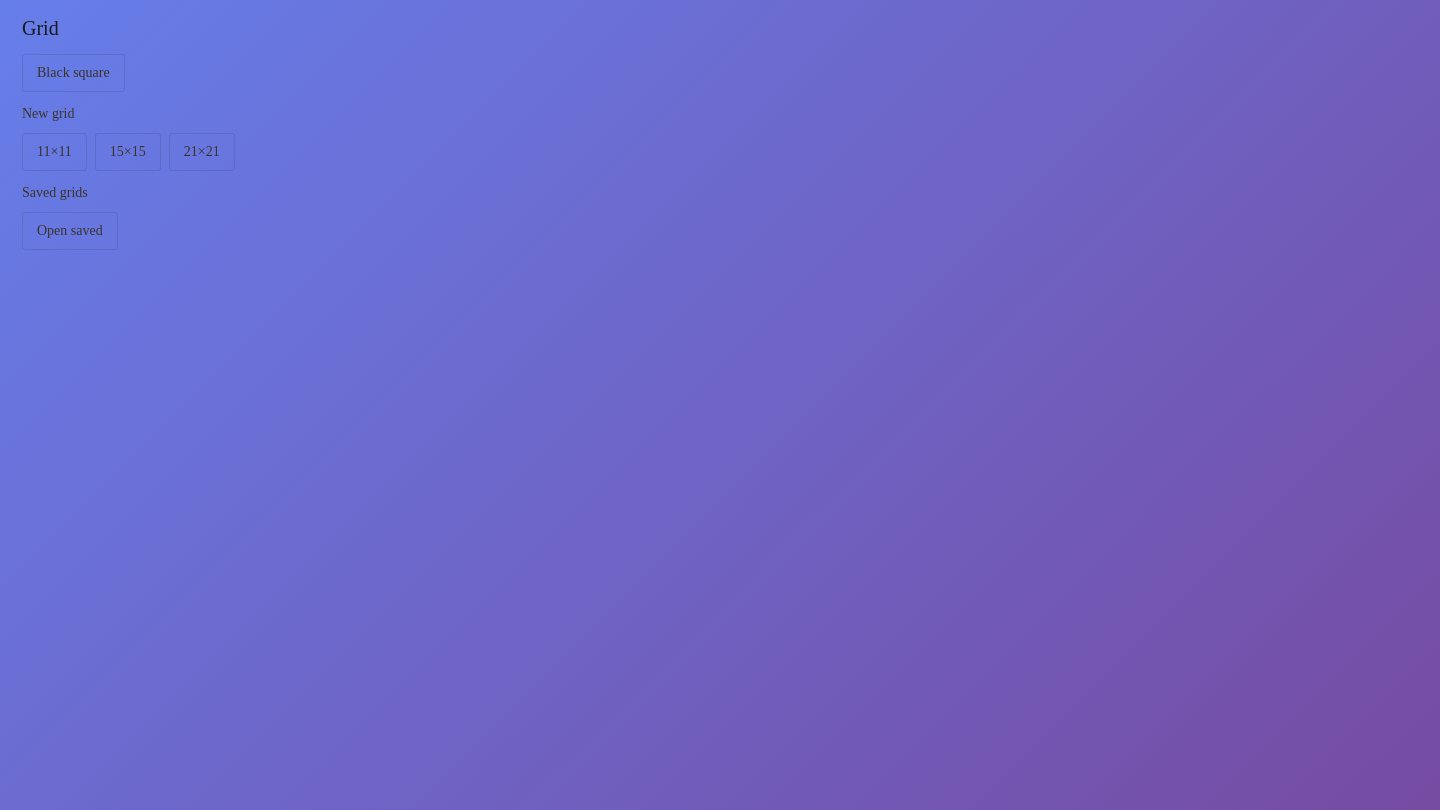
it: GridPanel New grid (§3.2) › a black square alone also needs the confirm
Click the button "15×15" at (128, 152), box x1=95 y1=133 x2=161 y2=171
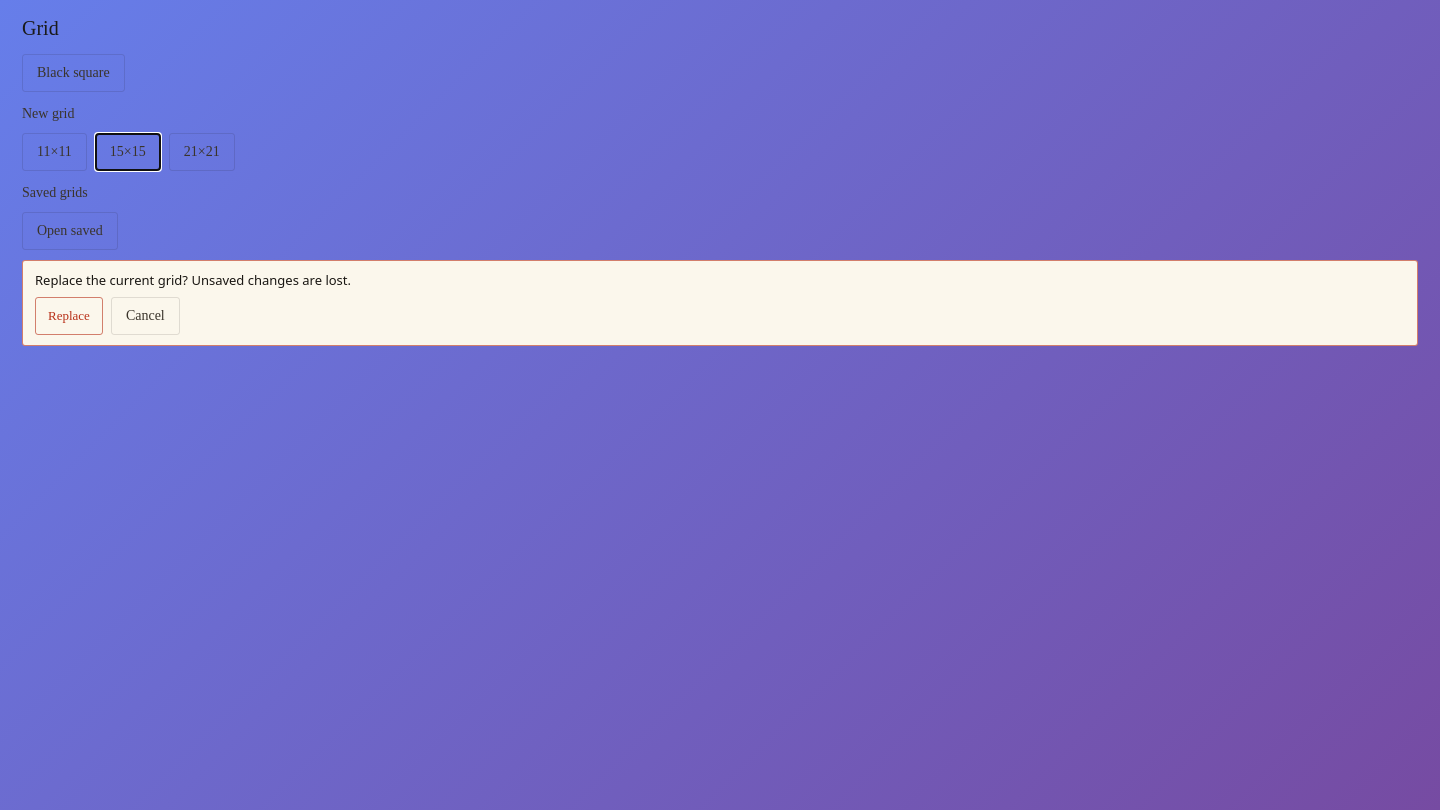
Expected: the element named "Replace the current grid? Unsaved changes are lost." is shown, x1=22 y1=260 x2=1418 y2=346
